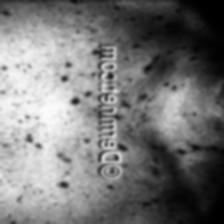Non-Cancerous Skin Condition: (0, 1, 94, 201), (124, 6, 210, 224)
